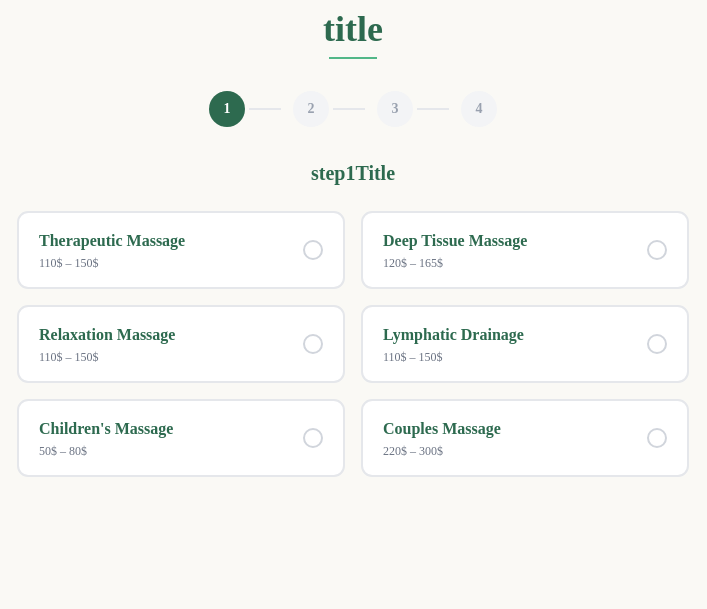
Scenario: BookingWizard › 5. clicking an available date advances to step 3 (time slots)
Click the button with test id "service-card-therapeutic".
click(181, 250)  # box [19,213,343,287]
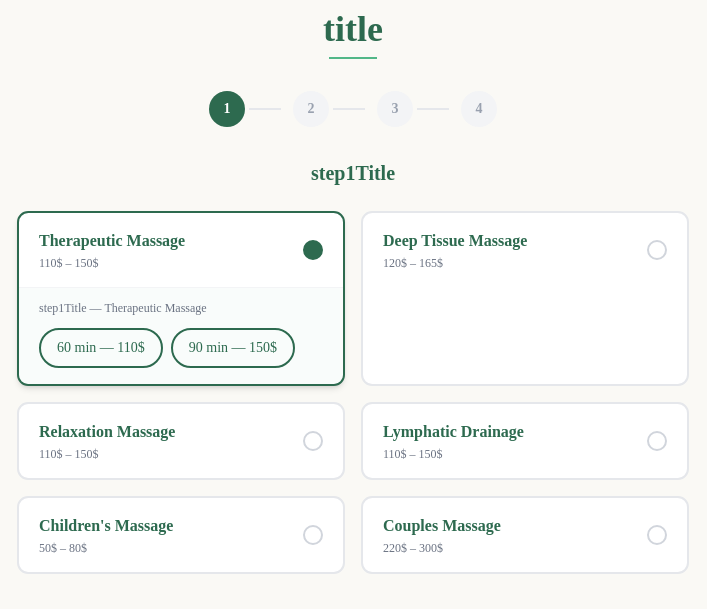
Click the button with test id "duration-btn-therapeutic-60".
click(101, 348)  # box [39,328,163,368]
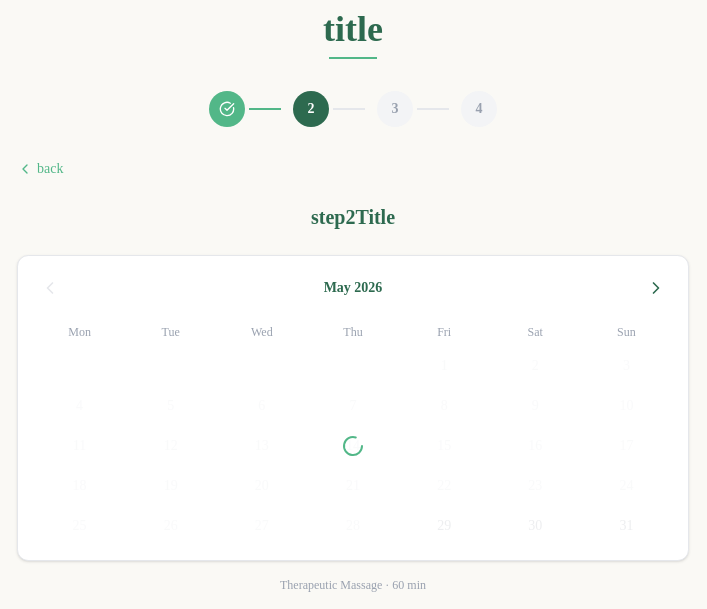
Now the button named "nextMonth" is shown
Click the button named "nextMonth".
click(656, 288)  # box [640,272,672,304]
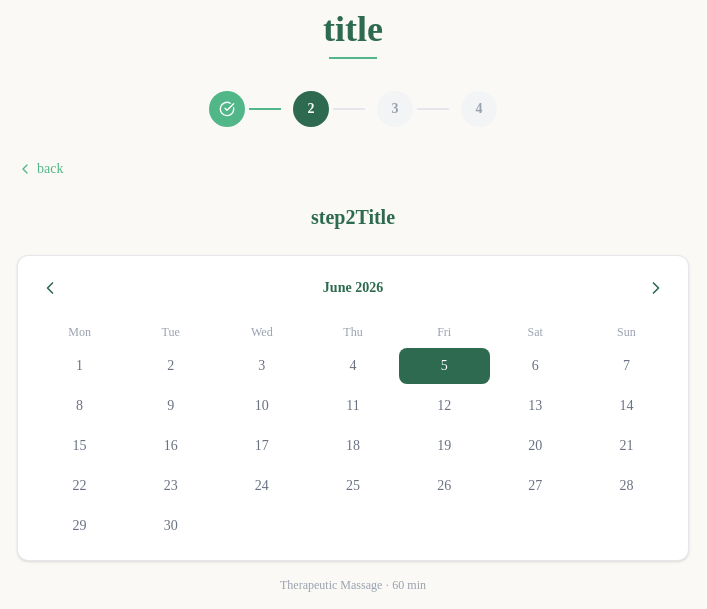
Now the button "5" is enabled
Click the button "5".
click(444, 366)  # box [399,348,490,384]
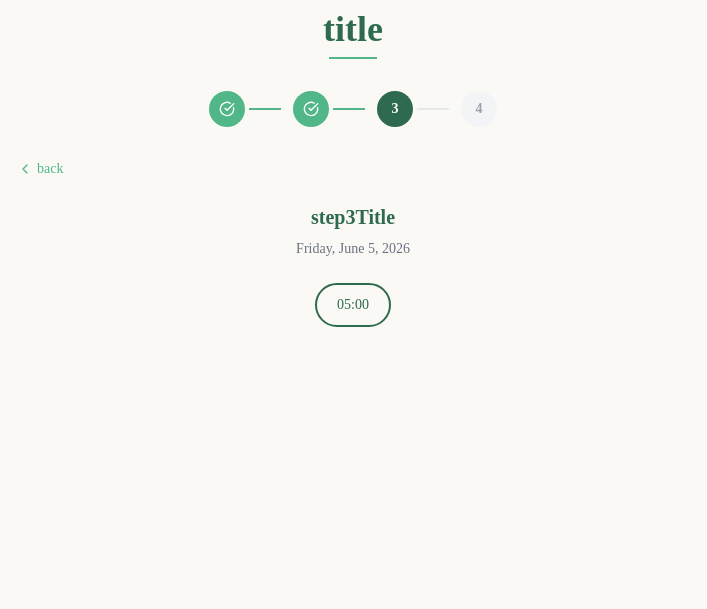
Now the element with test id "time-slots" is shown, box [315,283,391,327]
